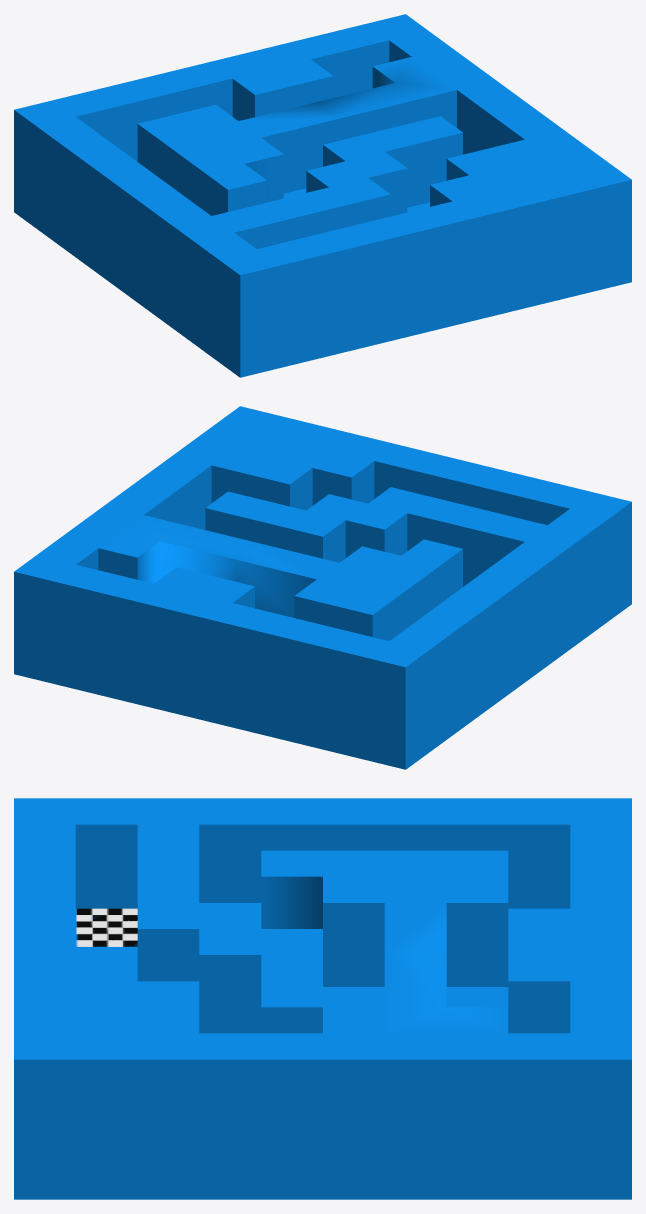
File: maze1.glb
The picture shows the model from 3 angles, top to bottom: view 1: azimuth 30°, elevation 25°; view 2: azimuth 150°, elevation 25°; view 3: azimuth 270°, elevation 25°; orthographic projection. The views are drawn at different scales.
Visible parts, largest first — view 1: pCube1; view 2: pCube1; view 3: pCube1.
Part boxes in pixels (left/top/right/bottom): pCube1: left=14, top=14, right=631, bottom=377; pCube1: left=14, top=406, right=631, bottom=769; pCube1: left=14, top=798, right=631, bottom=1199.
Bounding box in the file's own units: 5 × 1.25 × 5.
Materials: 1 (1 with a texture image).
